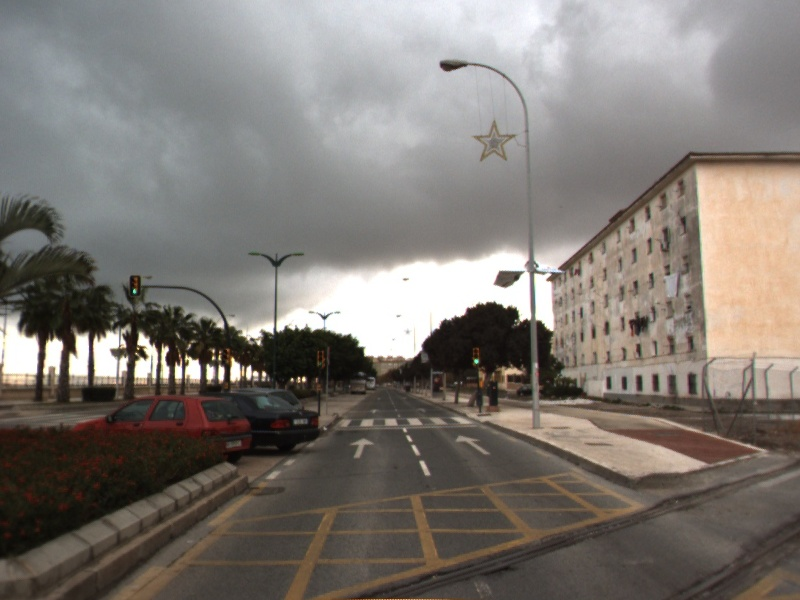STRAIGHT: (453, 433, 493, 457), (347, 436, 377, 460)
